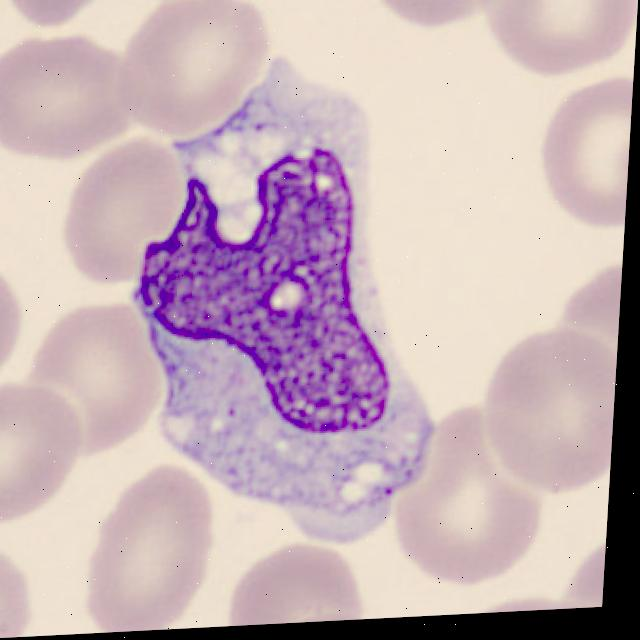monocyte: (82, 36, 466, 530)
rbc: (396, 400, 547, 583), (480, 324, 619, 499), (84, 456, 215, 634), (118, 0, 268, 139), (29, 297, 159, 446), (69, 131, 188, 278), (0, 32, 135, 151), (540, 76, 634, 231), (473, 0, 638, 76), (0, 380, 83, 520), (235, 544, 364, 626), (555, 264, 622, 355), (363, 0, 508, 33), (0, 541, 35, 640), (558, 545, 605, 609), (6, 0, 112, 26), (0, 264, 20, 387), (466, 601, 597, 614), (273, 612, 389, 624)
